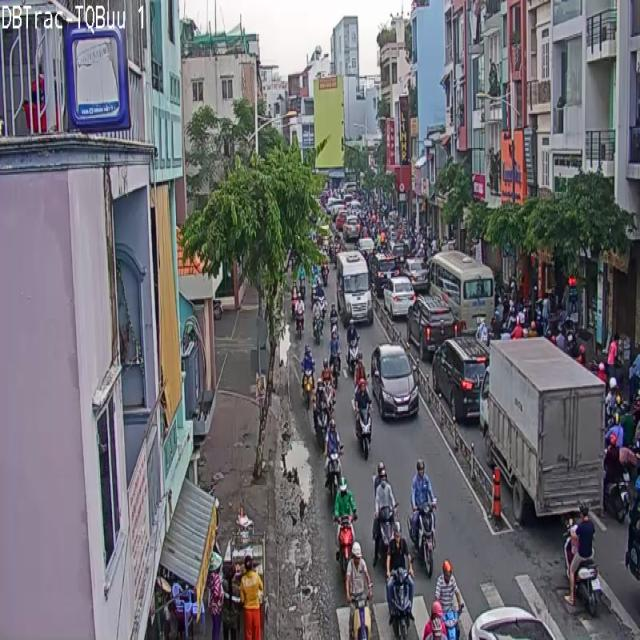car: (386, 530, 414, 639), (410, 459, 436, 576), (346, 542, 371, 600)
traffic-light: (433, 337, 487, 421), (372, 344, 418, 418), (408, 294, 456, 360), (338, 250, 372, 321)
